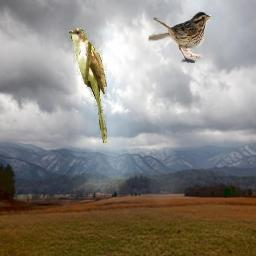Cuckoo: (67, 27, 107, 143)
Sparrow: (148, 11, 211, 63)
